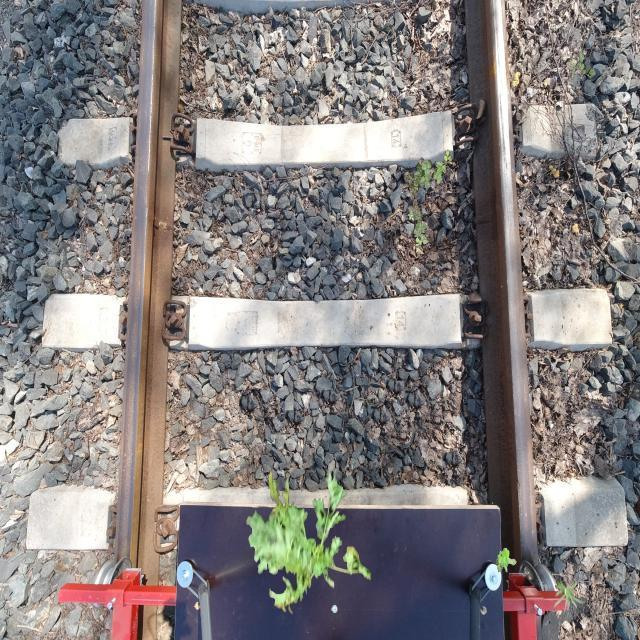Plant: (246, 468, 371, 615), (405, 150, 453, 254), (553, 580, 586, 614), (568, 52, 596, 82), (496, 548, 516, 573)
